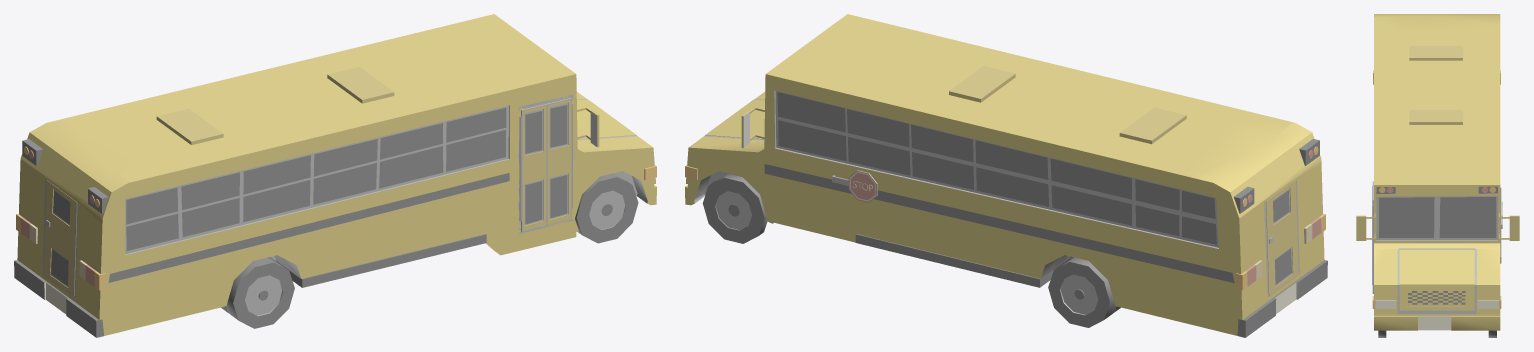
File: kar3.fbx
3 renders of one model, left to right at view 1: azimuth 30°, elevation 25°; view 2: azimuth 150°, elevation 25°; view 3: azimuth 270°, elevation 25°, orthographic. The views are drawn at different scales.
Parts seen in each view (by area): view 1: Cube, Cylinder_12, Cylinder_1, Cylinder_3, Cube_5, Cylinder_6, Cylinder_4; view 2: Cube, Cylinder_2, Cylinder_11, Cylinder_6, Cylinder_4; view 3: Cube, Cylinder_4, Cube_5.
Boxes of the visible parts, <box> form: Cube: <box>14,14,656,337</box>; Cylinder_12: <box>221,257,294,328</box>; Cylinder_1: <box>519,104,546,231</box>; Cylinder_3: <box>575,173,638,243</box>; Cube_5: <box>546,98,572,225</box>; Cylinder_6: <box>44,180,77,296</box>; Cylinder_4: <box>577,99,636,139</box>; Cube: <box>685,14,1327,337</box>; Cylinder_2: <box>1048,257,1120,327</box>; Cylinder_11: <box>702,174,767,243</box>; Cylinder_6: <box>1266,179,1299,295</box>; Cylinder_4: <box>705,99,764,139</box>; Cube: <box>1356,14,1519,330</box>; Cylinder_4: <box>1399,248,1475,310</box>; Cube_5: <box>1372,190,1373,293</box>.
Size of the model in its own units: 964 by 298 by 316.
